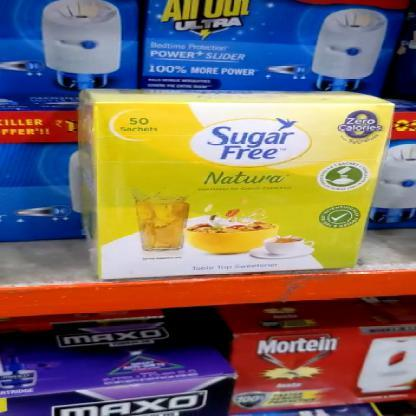SUGAR FREE NATURA SACHET 50: (91, 102, 394, 278)
